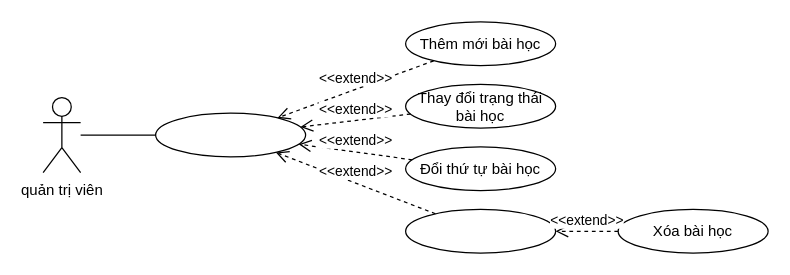
The diagram is 790 pixels wide and 275 high, and some of its shapes have lost their labels. Here are the shapes that lost their labels. From the top down, the centre of each, then its label:
At (230,134): "Quản lý bài học".
At (480,230): "Sửa chi tiết bài học".
